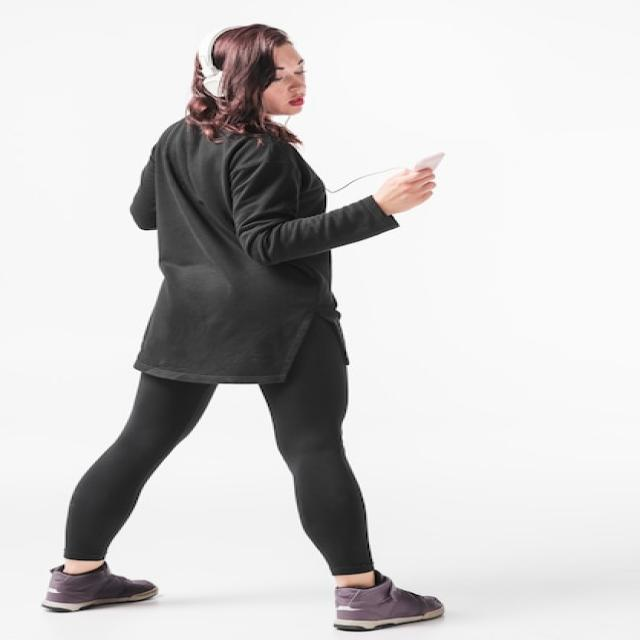Person: (38, 24, 446, 633)
